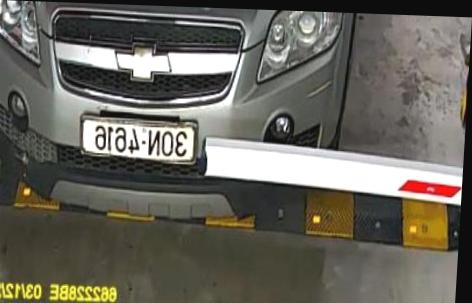License_Plate: (78, 110, 198, 163)
